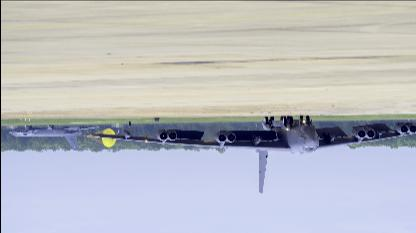B2: (89, 114, 415, 194), (7, 123, 98, 149)
